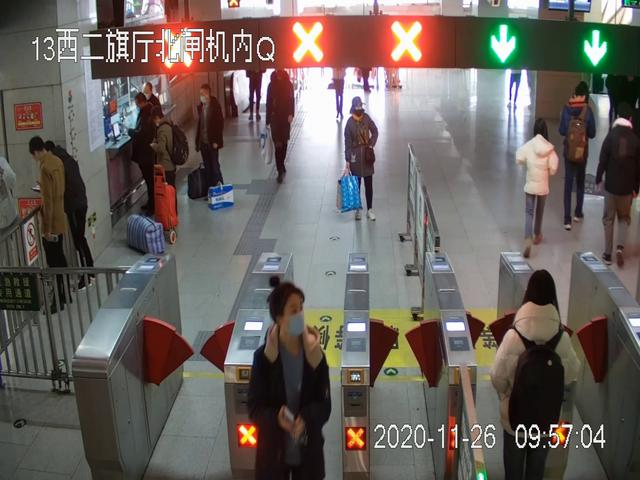person: (492, 270, 581, 480), (249, 275, 332, 480), (42, 139, 99, 291), (29, 135, 72, 314), (594, 105, 640, 268), (514, 119, 559, 257), (559, 81, 597, 231), (336, 96, 379, 223), (149, 105, 188, 217), (260, 68, 295, 184), (127, 92, 160, 203), (194, 84, 226, 193)
